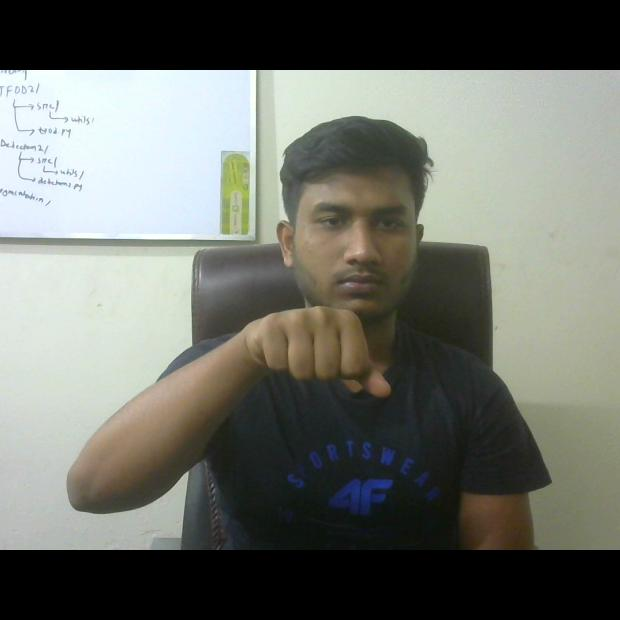E: (235, 298, 401, 420)
